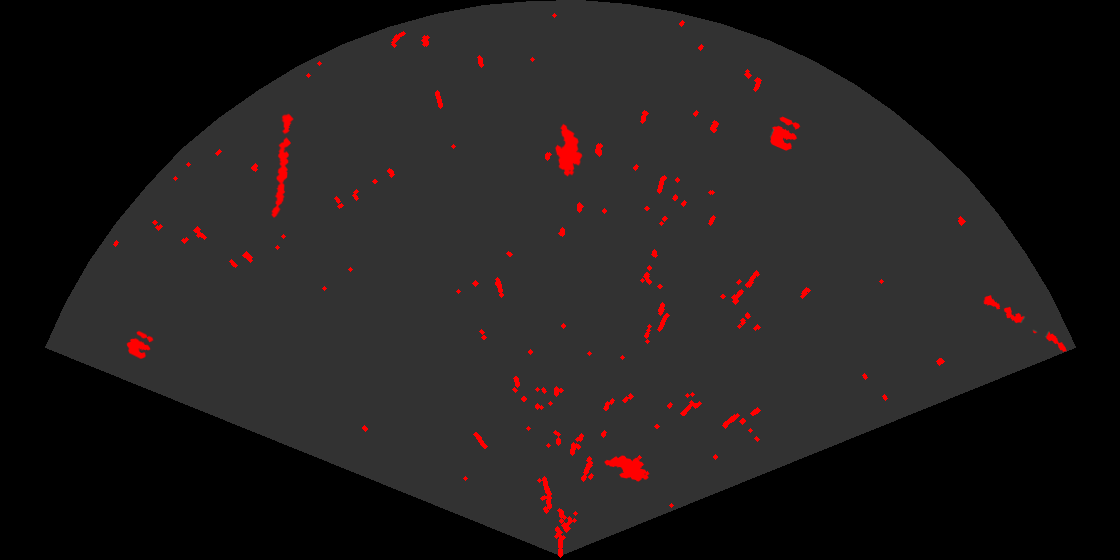AUV: (553, 122, 584, 178), (603, 454, 651, 483)
ball: (769, 115, 802, 152), (125, 329, 155, 361)
chain: (982, 293, 1068, 353), (270, 112, 295, 219)
